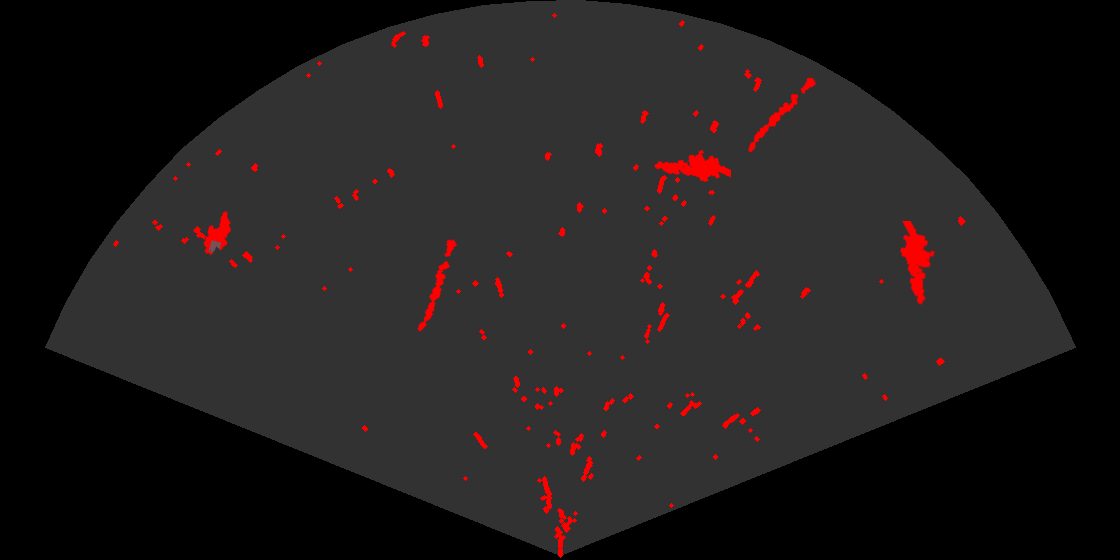AUV: (202, 209, 233, 257)
chain: (747, 76, 818, 154), (416, 237, 458, 333)
frogman: (898, 221, 937, 306), (653, 148, 731, 184)
